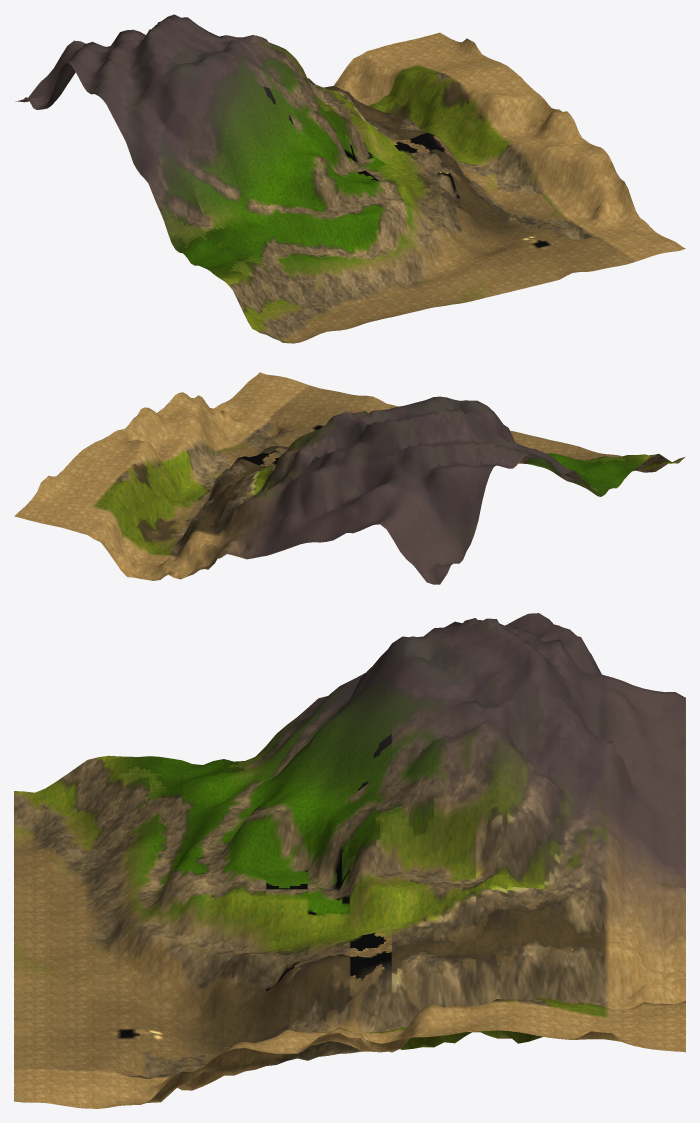
The model's file is terrain.glb.
3 renders of one model, top to bottom at view 1: azimuth 30°, elevation 25°; view 2: azimuth 150°, elevation 25°; view 3: azimuth 270°, elevation 25°, orthographic. The views are drawn at different scales.
Visible parts, largest first — view 1: terrain_5_0; view 2: terrain_5_0; view 3: terrain_5_0.
Part boxes in pixels (x1,y1,x2,y2): terrain_5_0: [15, 14, 685, 343]; terrain_5_0: [14, 372, 684, 584]; terrain_5_0: [14, 613, 685, 1108].
Size of the model in its own units: 512 by 230 by 512.
Materials: 1 (1 with a texture image).
